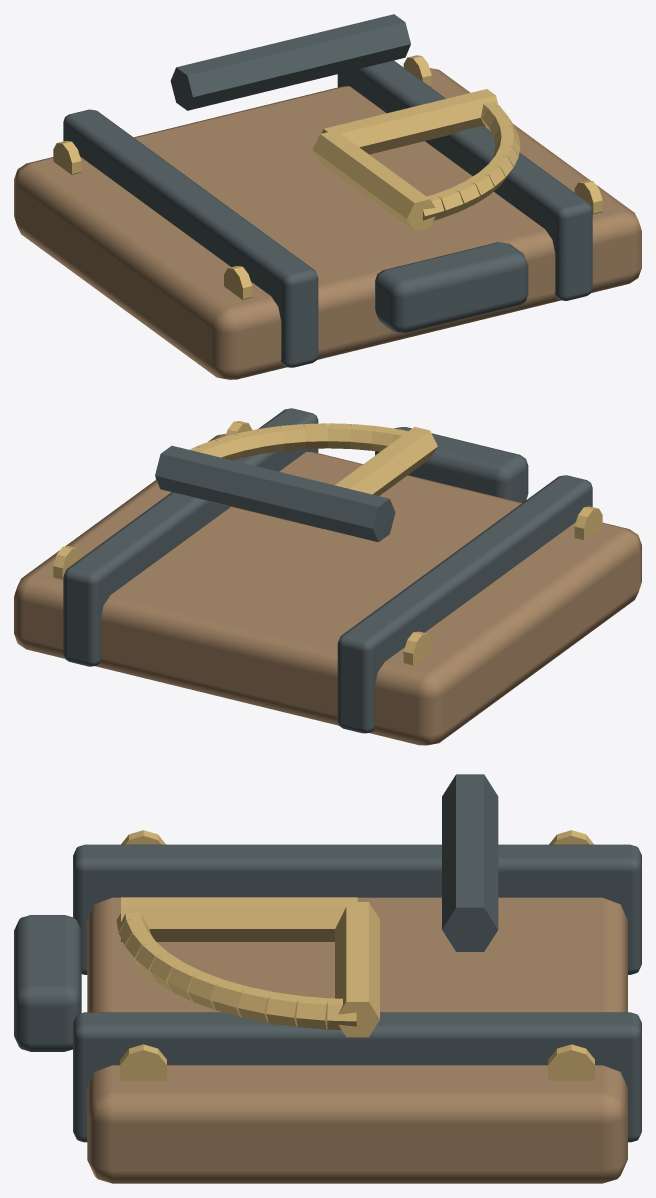
File: castaway-island-escape-sextant-in-case-f4f2c968__28066.glb
3 views of the same model, one above another, from view 1: azimuth 30°, elevation 25°; view 2: azimuth 150°, elevation 25°; view 3: azimuth 270°, elevation 25° (orthographic). The views are drawn at different scales.
Parts seen in each view (by area): view 1: sextant-in-case-wood, sextant-in-case-iron, sextant-in-case-brass; view 2: sextant-in-case-wood, sextant-in-case-iron, sextant-in-case-brass; view 3: sextant-in-case-wood, sextant-in-case-iron, sextant-in-case-brass.
Boxes of the visible parts, <box> form: sextant-in-case-wood: <box>14,68,641,379</box>; sextant-in-case-iron: <box>63,14,592,367</box>; sextant-in-case-brass: <box>53,55,602,299</box>; sextant-in-case-wood: <box>14,433,641,745</box>; sextant-in-case-iron: <box>63,408,592,733</box>; sextant-in-case-brass: <box>53,421,602,665</box>; sextant-in-case-wood: <box>87,897,627,1183</box>; sextant-in-case-iron: <box>14,774,641,1142</box>; sextant-in-case-brass: <box>116,830,594,1080</box>.
Size of the model in its own units: 0.55 by 0.2216 by 0.5575.
